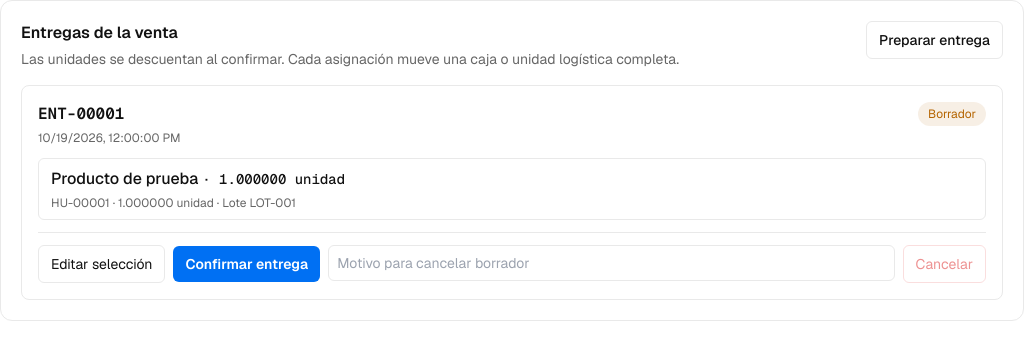
Test case: SalesDeliveryPanel › confirma el borrador con clave estable y refresca la venta
Click the button "Confirmar entrega": [247, 264] box [174,246,320,282]
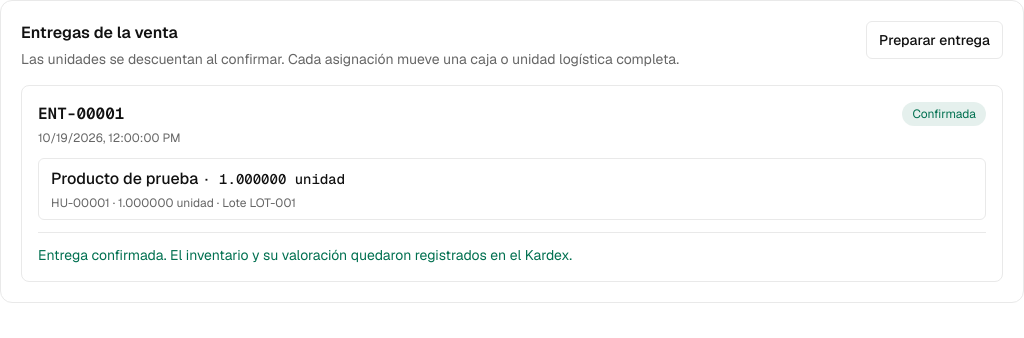
Expected: the text "Entrega confirmada. El inventario y su valoración quedaron registrados en el Kardex." is shown, [38,246,572,264]
